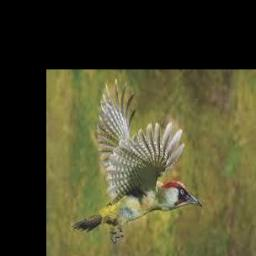Woodpecker: (71, 78, 203, 243)
